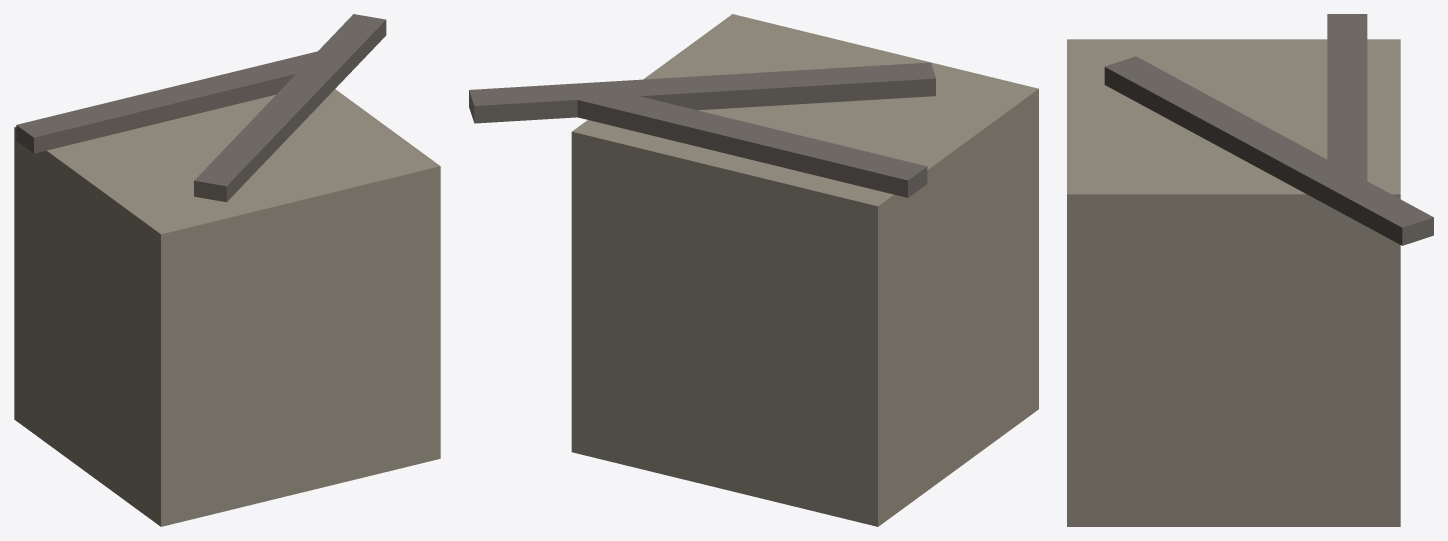
The model's file is prop_dark_supply_crate.glb.
3 views of the same model, side by side, from view 1: azimuth 30°, elevation 25°; view 2: azimuth 150°, elevation 25°; view 3: azimuth 270°, elevation 25° (orthographic). The views are drawn at different scales.
Parts seen in each view (by area): view 1: crate_body, brace_h, brace_diag; view 2: crate_body, brace_diag, brace_h; view 3: crate_body, brace_diag, brace_h.
Part boxes in pixels (x1,y1,x2,y2): crate_body: (14, 89, 440, 526); brace_h: (16, 50, 336, 153); brace_diag: (194, 14, 386, 202); crate_body: (571, 14, 1038, 526); brace_diag: (469, 62, 935, 123); brace_h: (575, 85, 927, 197); crate_body: (1067, 39, 1400, 526); brace_diag: (1104, 56, 1433, 245); brace_h: (1327, 14, 1367, 183).
Size of the model in its own units: 1.52 by 1.16 by 1.1.
